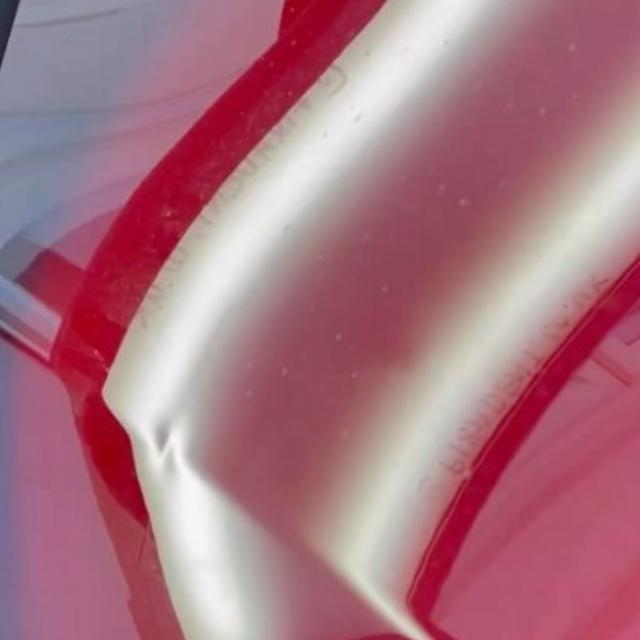dents: (122, 387, 241, 541)
